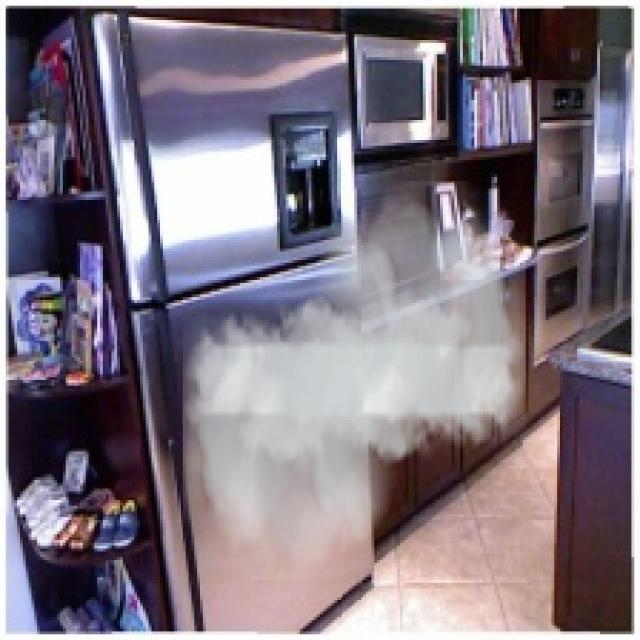smoke: (183, 180, 526, 580)
